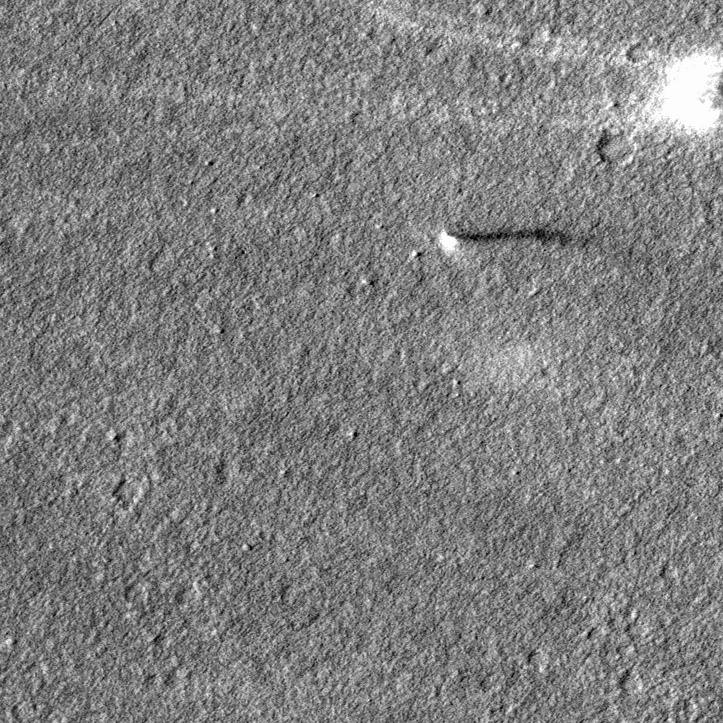dust_devil: (651, 47, 723, 139), (433, 222, 575, 256)
